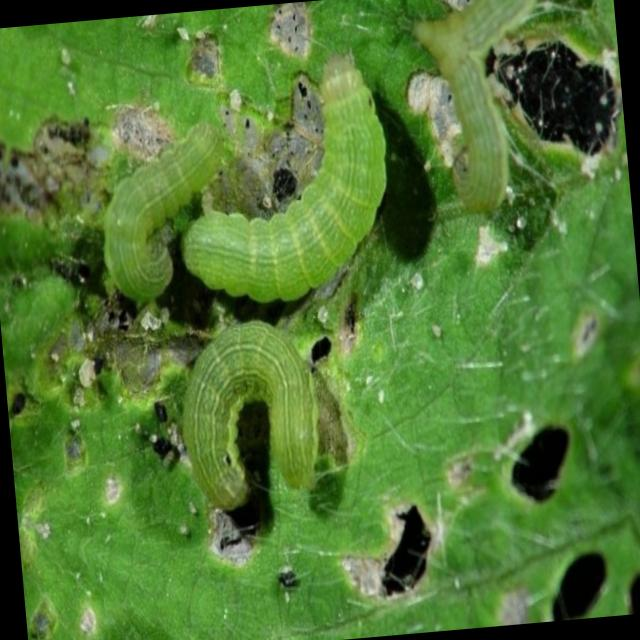Armyworm: (185, 48, 420, 322), (147, 299, 350, 533), (81, 75, 244, 313)
Armyworm_damage: (479, 16, 631, 202), (484, 409, 593, 538), (368, 487, 442, 592), (531, 534, 617, 624), (5, 368, 60, 444), (614, 554, 640, 616)
